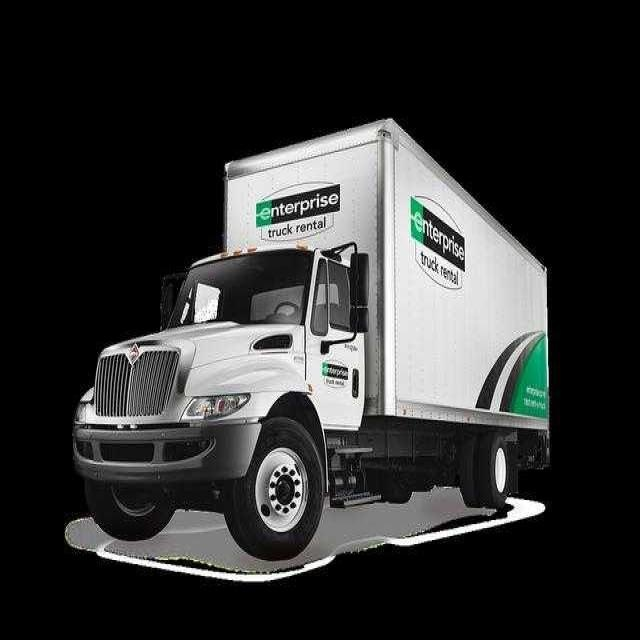Truck: (66, 105, 564, 568)
